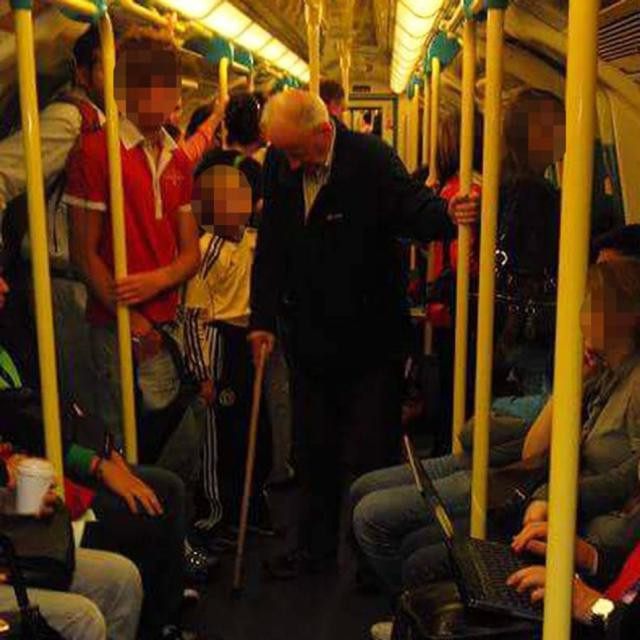body: (347, 220, 639, 640), (245, 87, 478, 583), (386, 260, 638, 639), (0, 264, 176, 640), (61, 44, 200, 467), (367, 430, 640, 639), (181, 154, 275, 570), (488, 83, 563, 401), (0, 31, 121, 213), (420, 105, 508, 309), (175, 80, 264, 162), (313, 77, 384, 135), (622, 379, 638, 433)
